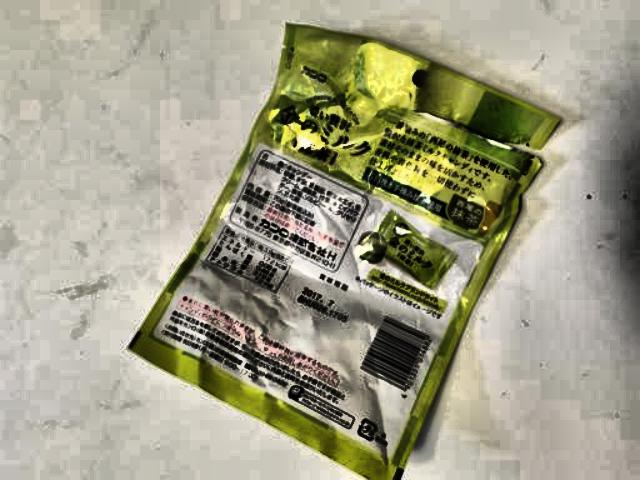Plastic: (10, 8, 616, 480)
